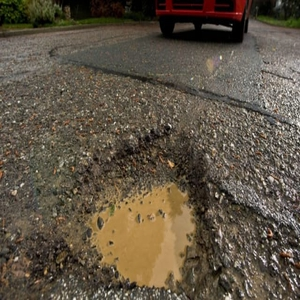pothole: (63, 124, 236, 300)
